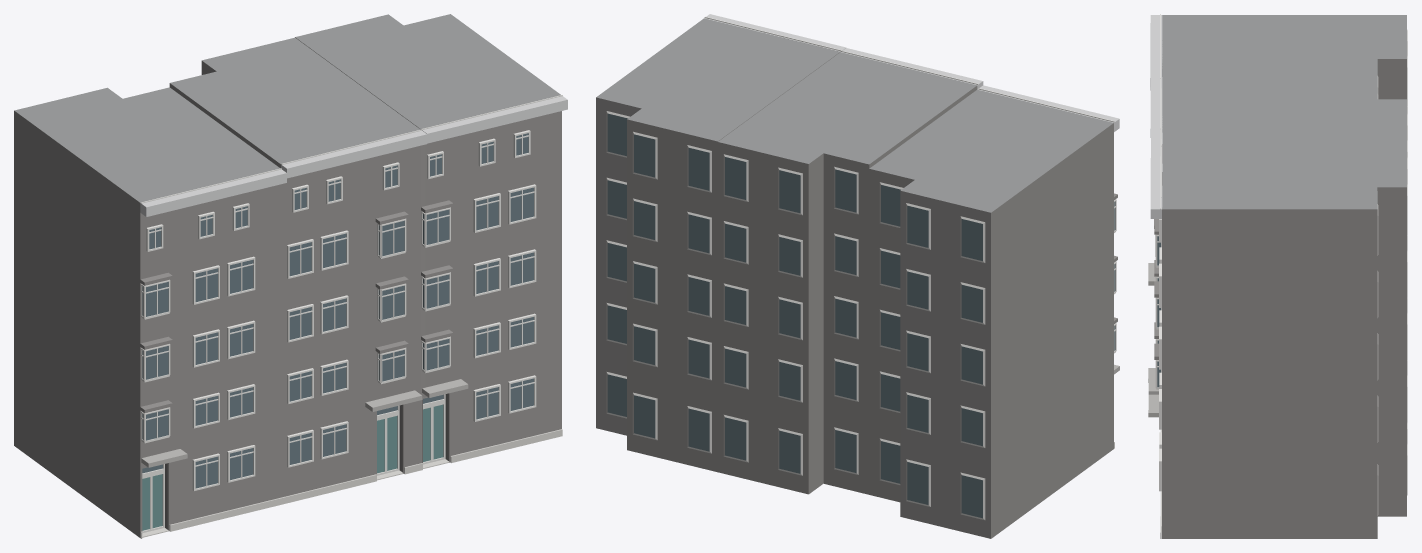
File: chunk-face-burger-45-131-r2.glb
The picture shows the model from 3 angles, left to right: view 1: azimuth 30°, elevation 25°; view 2: azimuth 150°, elevation 25°; view 3: azimuth 270°, elevation 25°; orthographic projection. The views are drawn at different scales.
Parts seen in each view (by area): view 1: face-burger-45-131-r2; view 2: face-burger-45-131-r2; view 3: face-burger-45-131-r2.
Boxes of the visible parts, x1=… form: face-burger-45-131-r2: x1=14, y1=14, x2=567, y2=538; face-burger-45-131-r2: x1=596, y1=14, x2=1119, y2=538; face-burger-45-131-r2: x1=1148, y1=14, x2=1407, y2=538.
Size of the model in its own units: 20.25 by 15.66 by 11.15.
